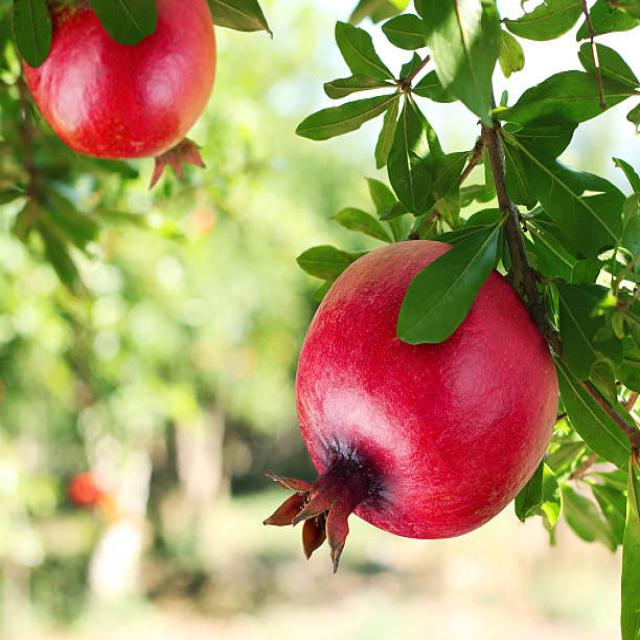Ripe: (260, 230, 564, 575), (12, 2, 223, 191)
